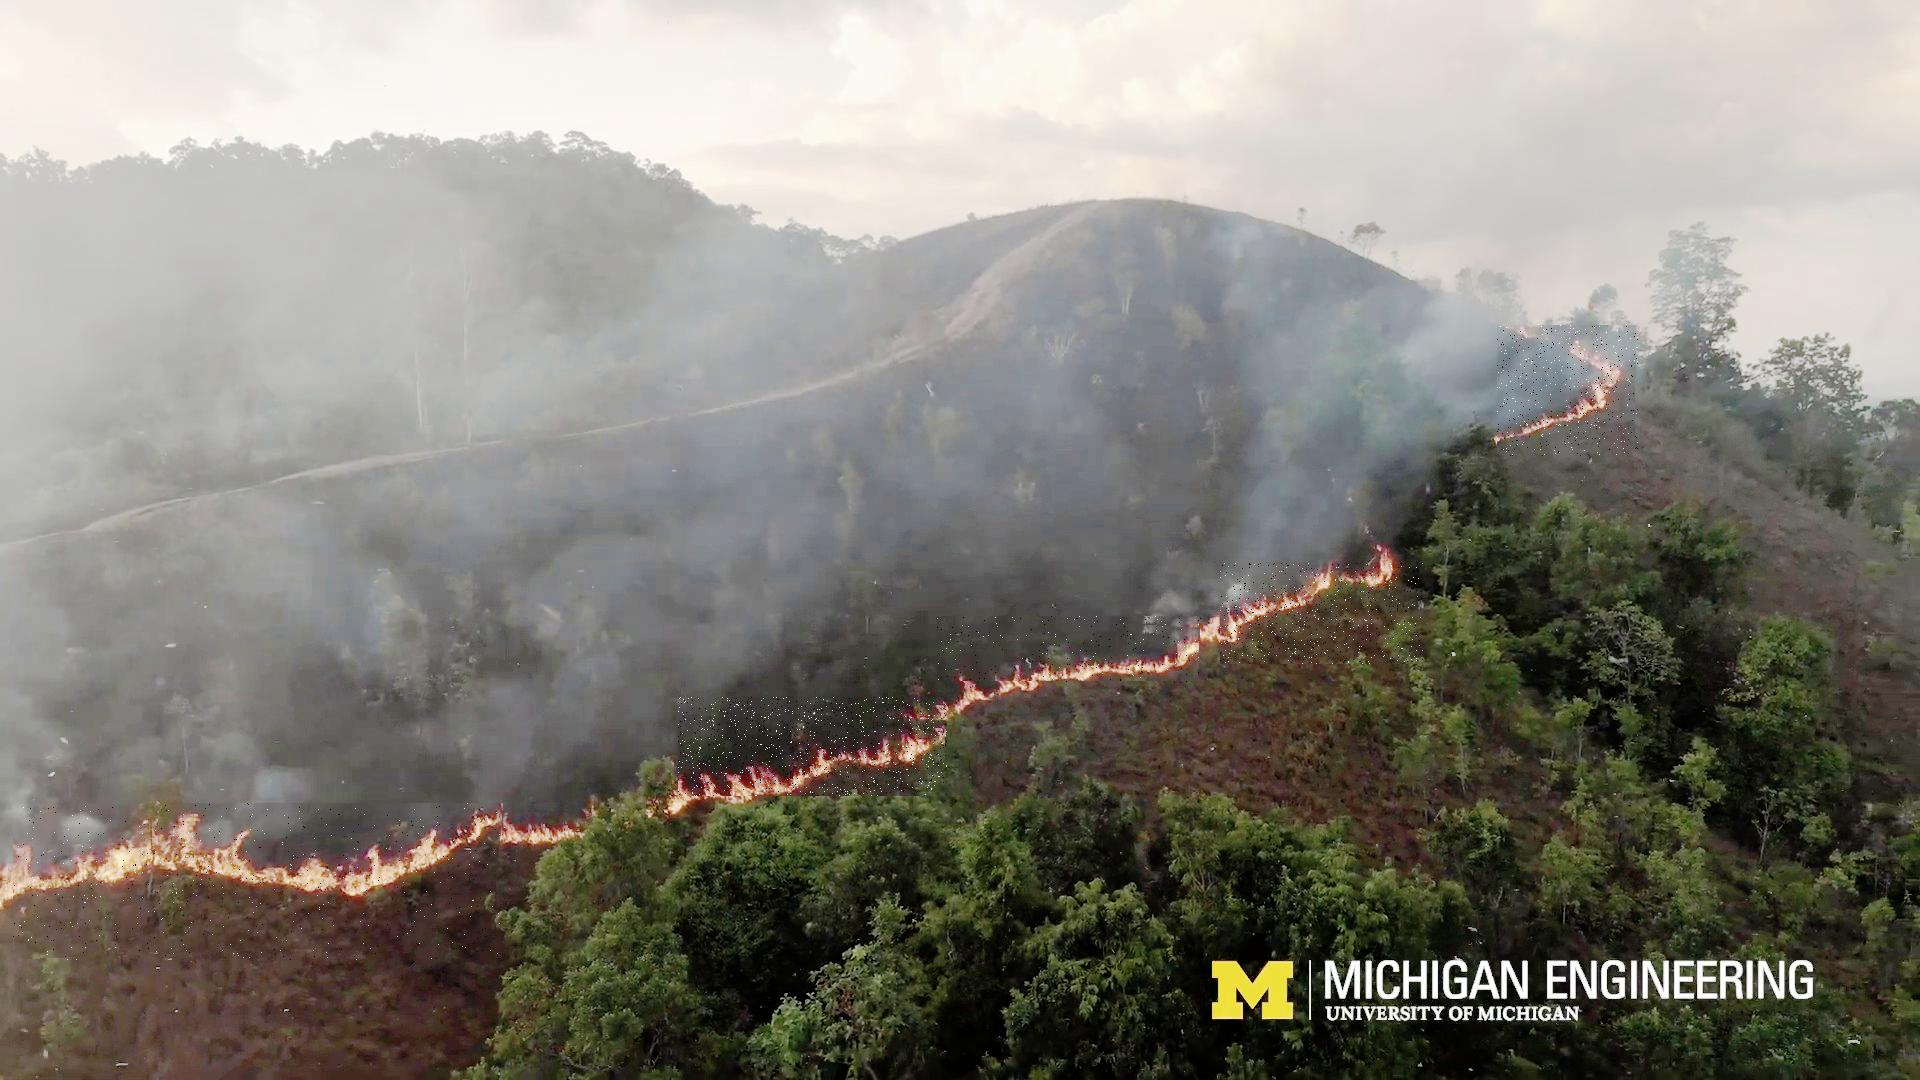fire: (13, 803, 505, 960), (678, 698, 947, 796), (1220, 563, 1423, 665), (1498, 326, 1639, 456), (938, 617, 1203, 684)
